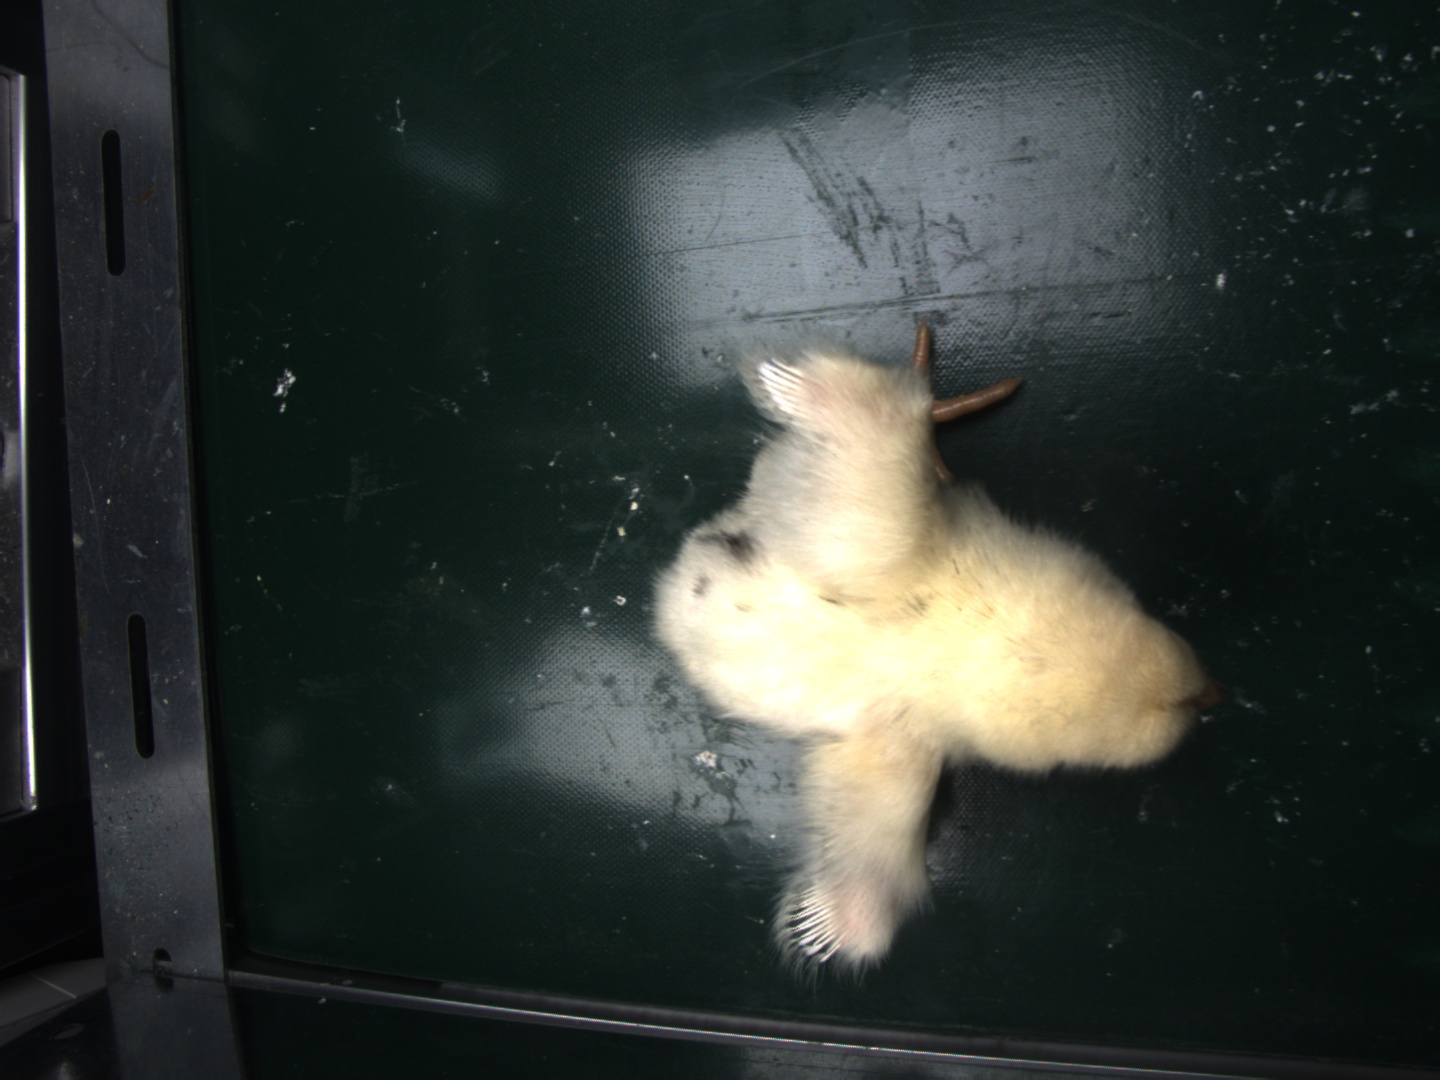male: (790, 886, 842, 957)
